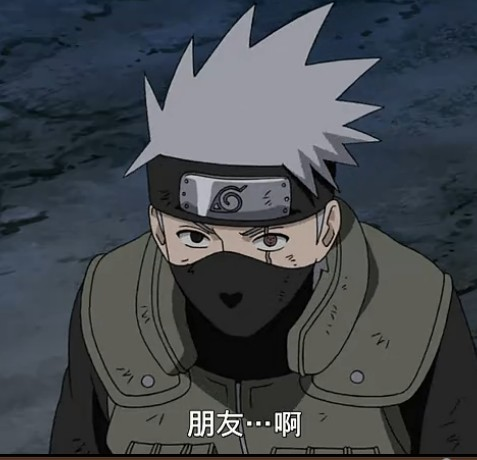kakashi: (143, 150, 341, 343)
